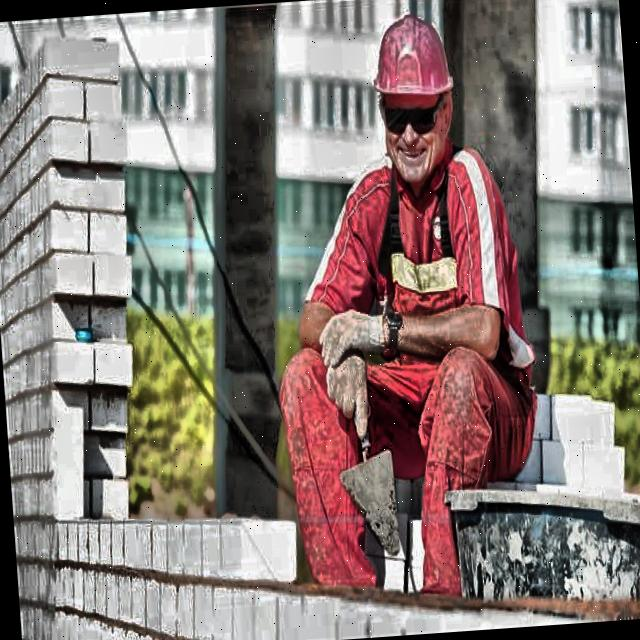helmet: (355, 0, 466, 194)
